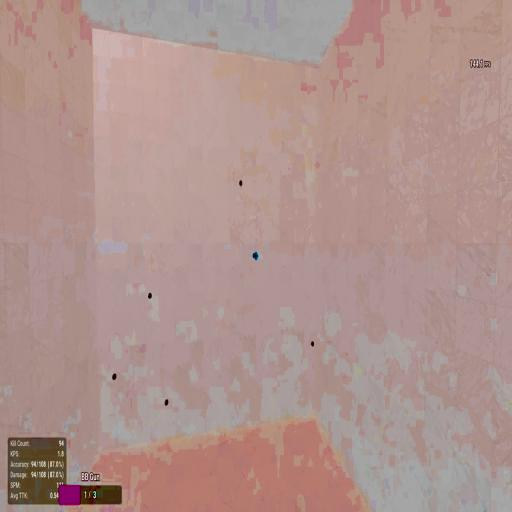Crosshair: (254, 252, 258, 261)
Target: (112, 372, 118, 380), (164, 398, 169, 406), (148, 291, 152, 300), (239, 180, 243, 188), (311, 340, 315, 348), (252, 252, 256, 259)
